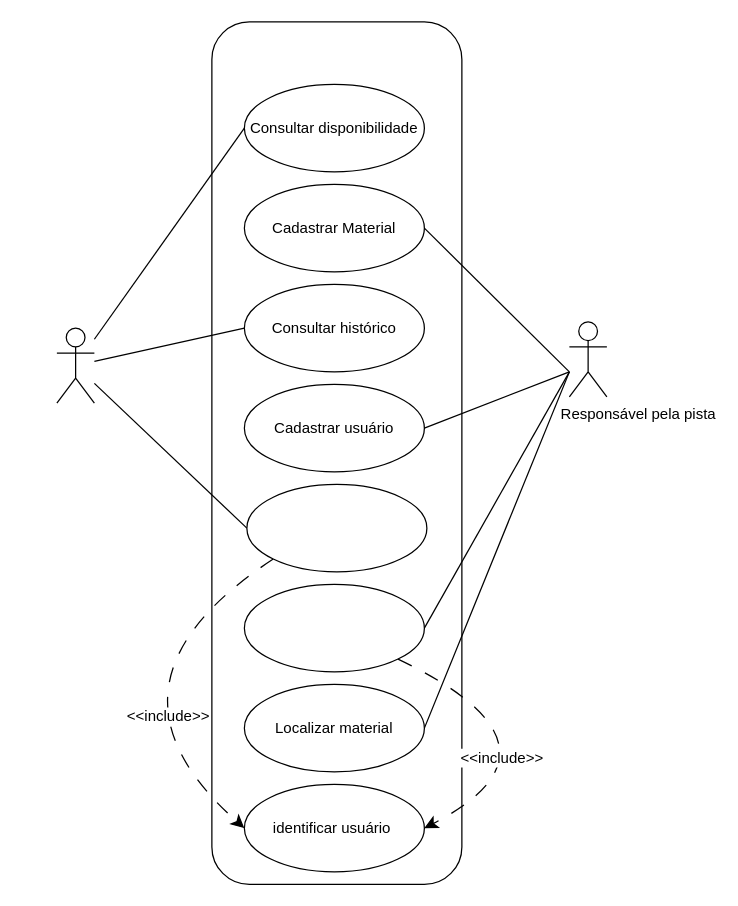
This 738x906 diagram has some shape labels left out. The centre of each missing label's shape, as x and y in pixels:
"Registrar devolução" belongs at point (336, 527).
"Registrar empréstimo" belongs at point (333, 627).
"Usuário da pista" belongs at point (75, 365).
